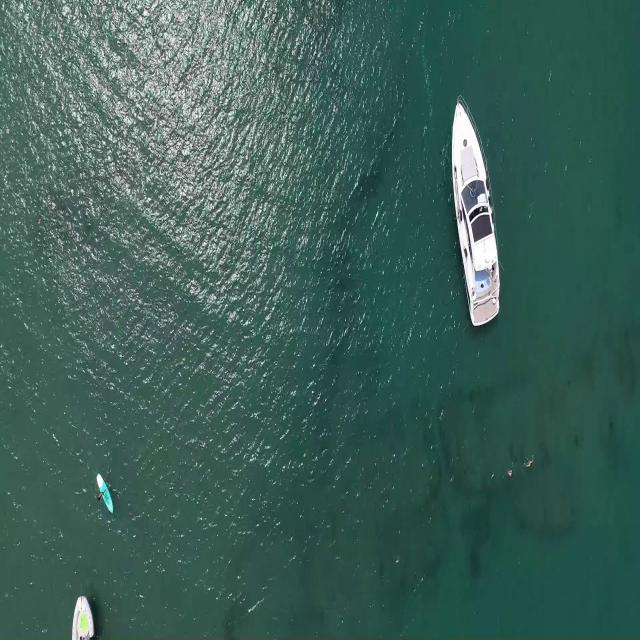boat: (448, 95, 503, 333), (66, 592, 98, 640)
person: (523, 454, 536, 468), (95, 487, 107, 502), (508, 468, 516, 478)
surfboard: (97, 470, 113, 521)
